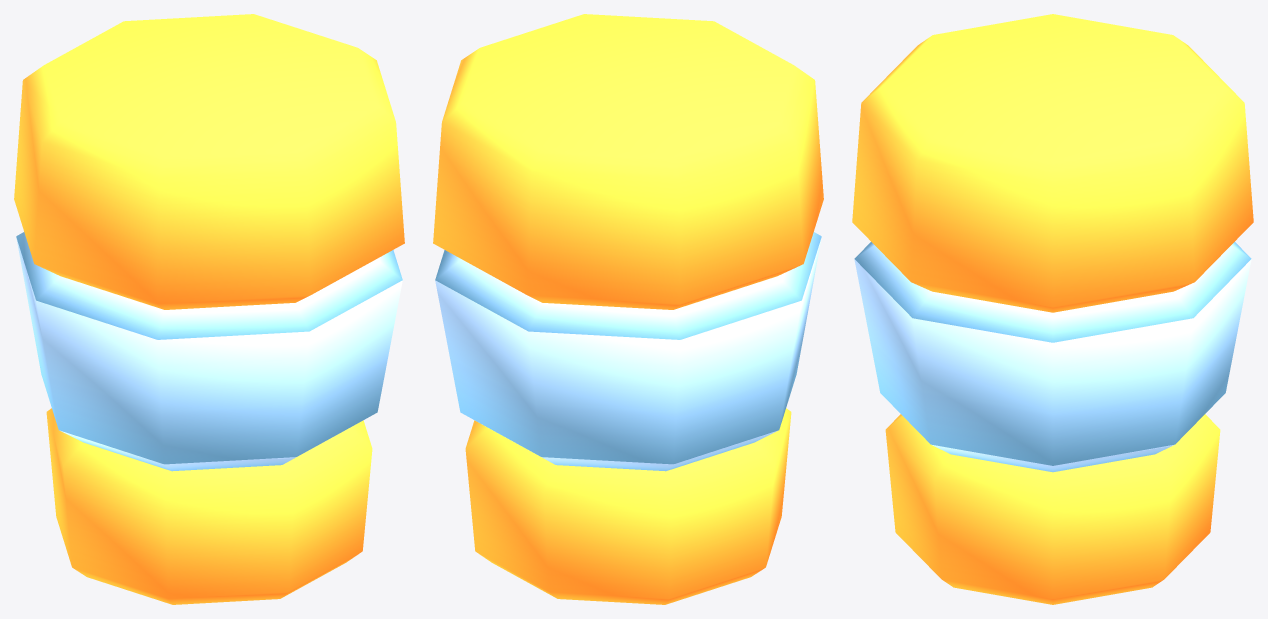
The model's file is gold_and_steel_grip_054.glb.
3 renders of one model, left to right at view 1: azimuth 30°, elevation 25°; view 2: azimuth 150°, elevation 25°; view 3: azimuth 270°, elevation 25°, orthographic.
Parts seen in each view (by area): view 1: gold_and_steel_grip_054; view 2: gold_and_steel_grip_054; view 3: gold_and_steel_grip_054.
Part boxes in pixels (x1,y1,x2,y2): gold_and_steel_grip_054: (14, 14, 404, 604); gold_and_steel_grip_054: (433, 14, 823, 604); gold_and_steel_grip_054: (852, 14, 1253, 604).
Size of the model in its own units: 2.37 by 3 by 2.37.
Materials: 1 (1 with a texture image).
